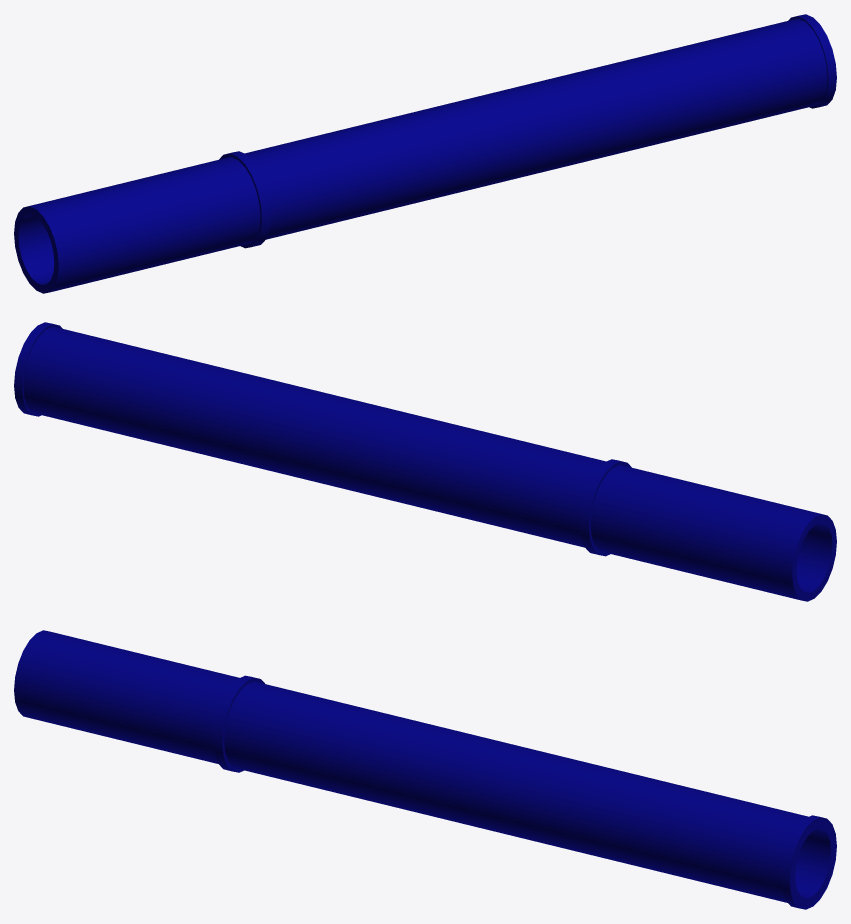
File: SM_Tuyau.fbx
The picture shows the model from 3 angles, top to bottom: view 1: azimuth 30°, elevation 25°; view 2: azimuth 150°, elevation 25°; view 3: azimuth 330°, elevation 25°; orthographic projection.
Parts seen in each view (by area): view 1: SM_Tuyau; view 2: SM_Tuyau; view 3: SM_Tuyau.
Part boxes in pixels (box(x1,y1,x2,y2)): SM_Tuyau: box(14, 14, 836, 293); SM_Tuyau: box(14, 322, 836, 601); SM_Tuyau: box(14, 630, 836, 909).
Bounding box in the file's own units: 2 × 0.2173 × 0.2173.
